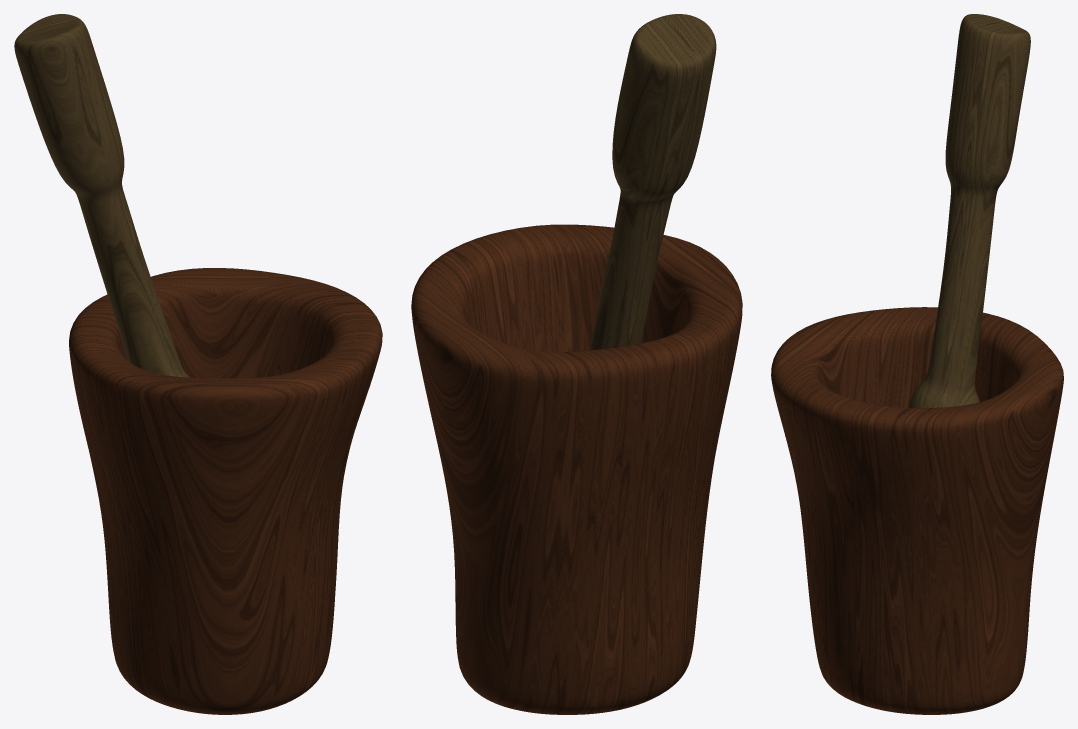
File: Lusong.fbx
3 views of the same model, side by side, from view 1: azimuth 30°, elevation 25°; view 2: azimuth 150°, elevation 25°; view 3: azimuth 270°, elevation 25° (orthographic). The views are drawn at different scales.
Parts seen in each view (by area): view 1: Lusong.001; view 2: Lusong.001; view 3: Lusong.001.
Boxes of the visible parts, bbox=[...] form: Lusong.001: bbox=[14, 14, 382, 714]; Lusong.001: bbox=[411, 14, 742, 714]; Lusong.001: bbox=[771, 14, 1063, 714].
Size of the model in its own units: 97.28 by 204 by 89.19.
Materials: 1 (1 with a texture image).
